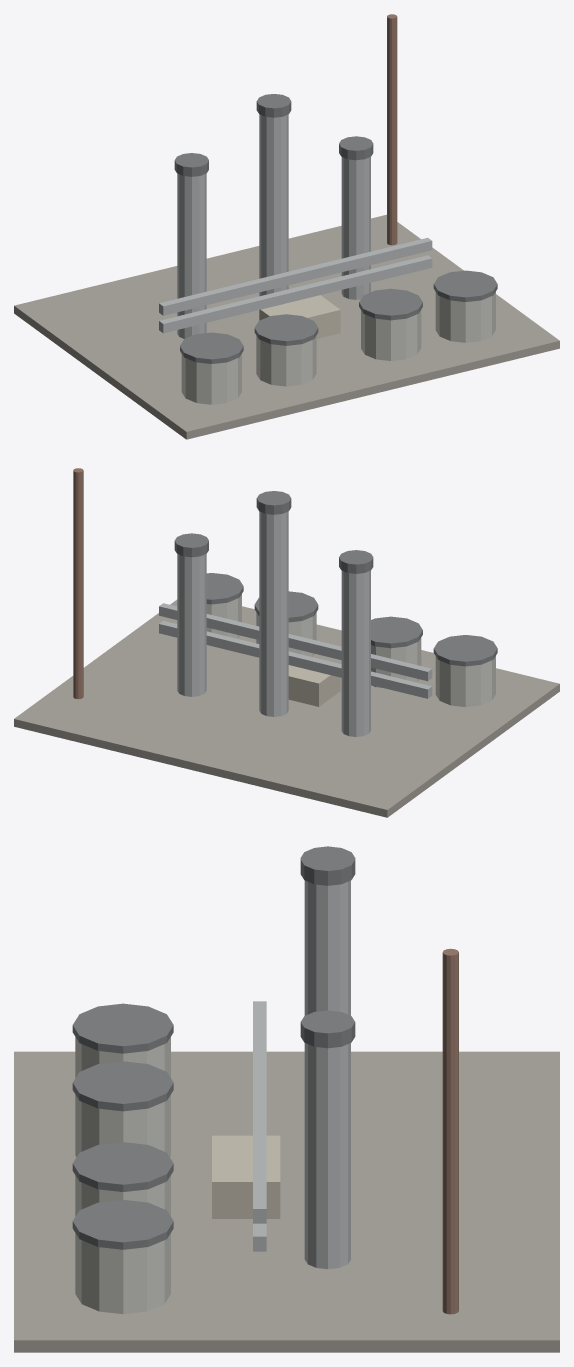
File: ind_refinaria.glb
3 renders of one model, top to bottom at view 1: azimuth 30°, elevation 25°; view 2: azimuth 150°, elevation 25°; view 3: azimuth 270°, elevation 25°, orthographic. The views are drawn at different scales.
Parts seen in each view (by area): view 1: ind_refinaria; view 2: ind_refinaria; view 3: ind_refinaria.
Part boxes in pixels (left/top/right/bottom): ind_refinaria: left=14, top=14, right=559, bottom=439; ind_refinaria: left=14, top=468, right=559, bottom=817; ind_refinaria: left=14, top=846, right=559, bottom=1352.
Size of the model in its own units: 1 by 0.61 by 0.8.
